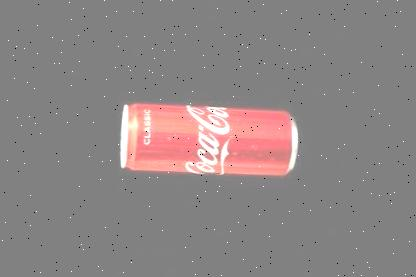Can: (118, 102, 299, 176)
